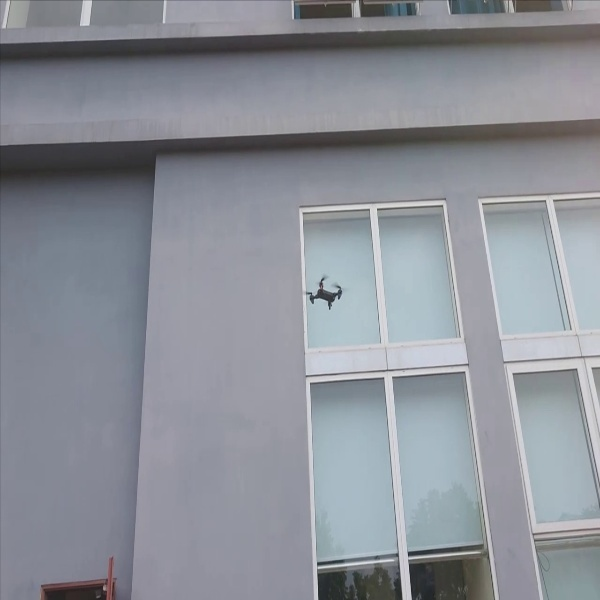drone: (302, 269, 349, 311)
